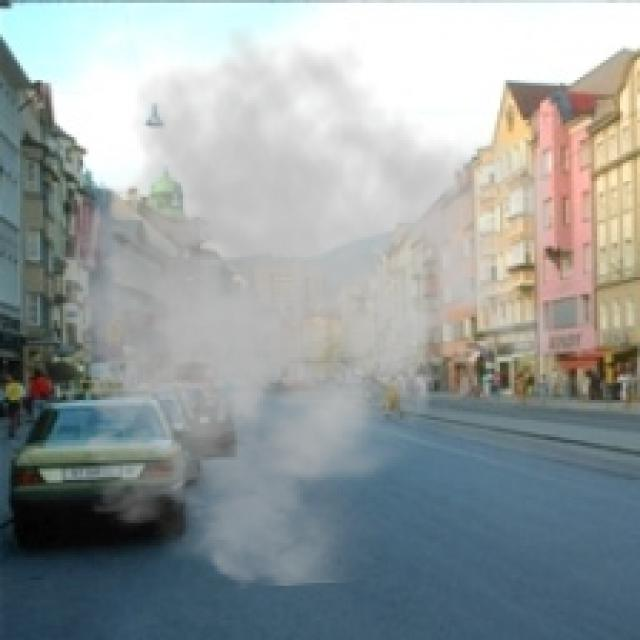smoke: (11, 23, 548, 588)
